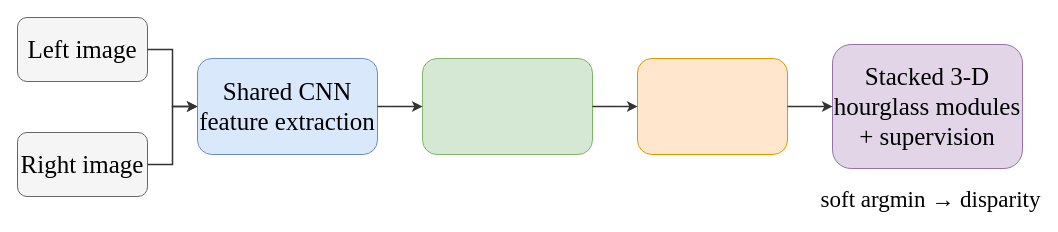
The diagram is 1058 pixels wide and 232 high, and some of its shapes have lost their labels. Each missing label, with the box of its shape:
Concatenation cost volume: (636, 58, 788, 154)
Spatial pyramid pooling (SPP): (422, 58, 592, 154)
